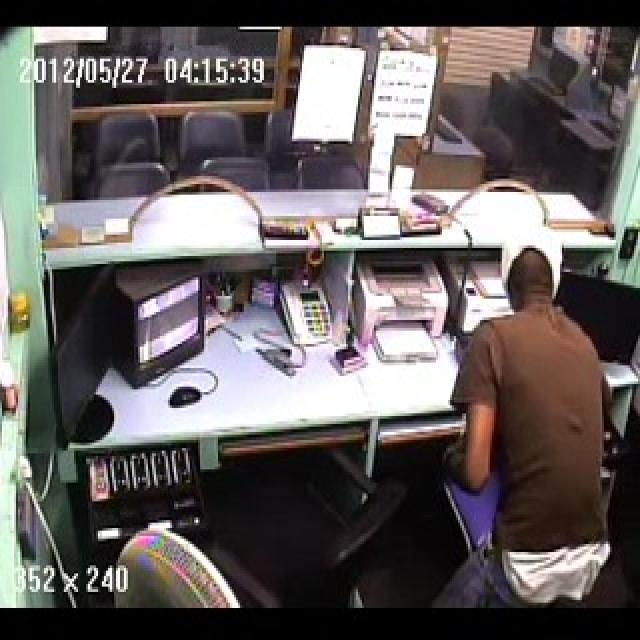thief: (436, 230, 640, 602)
